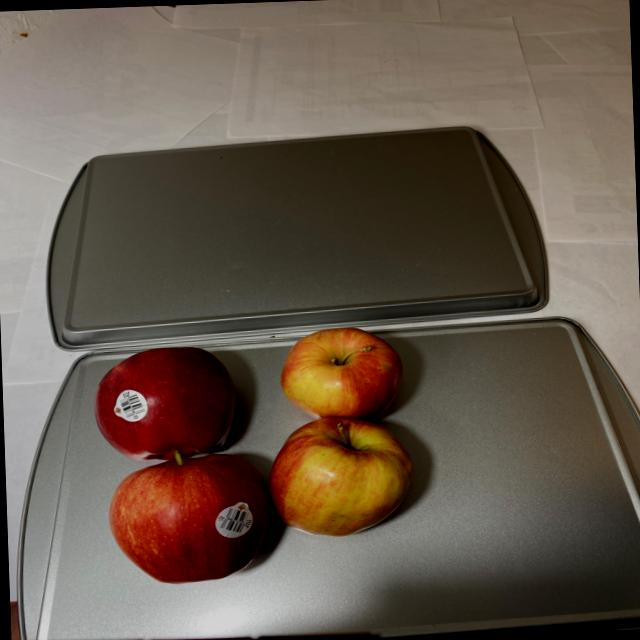apple: (88, 326, 416, 586)
